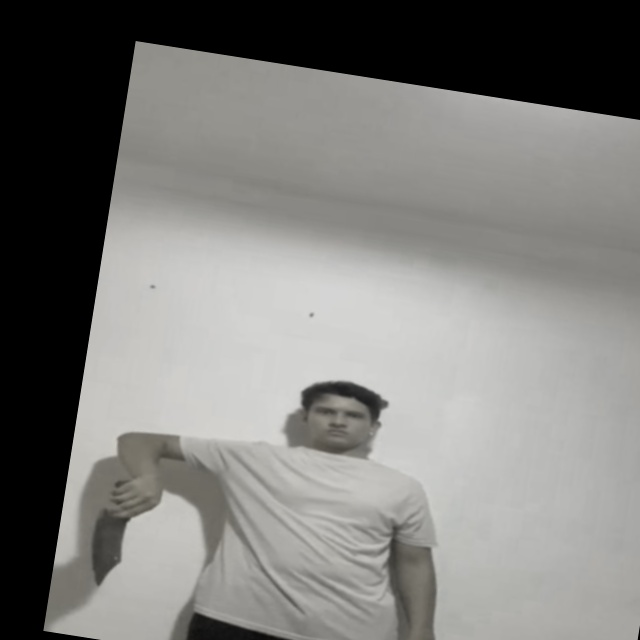Sharp-Object: (83, 510, 134, 583)
